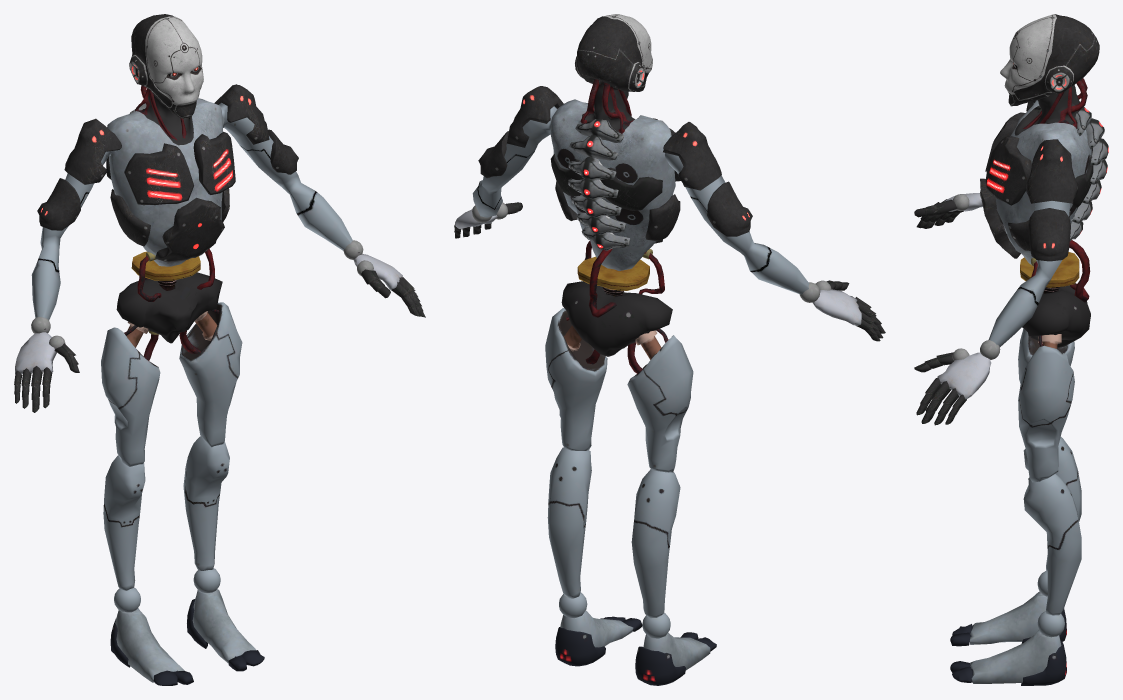
Rendered from SM_cyborg_static.fbx.
3 renders of one model, left to right at view 1: azimuth 30°, elevation 25°; view 2: azimuth 150°, elevation 25°; view 3: azimuth 270°, elevation 25°, orthographic. The views are drawn at different scales.
Visible parts, largest first — view 1: cyborgare; view 2: cyborgare; view 3: cyborgare.
Boxes of the visible parts, x1,y1,x2,y2 form: cyborgare: [14, 14, 425, 685]; cyborgare: [454, 14, 885, 685]; cyborgare: [914, 14, 1108, 685].
Size of the model in its own units: 1.25 by 1.85 by 0.5071.
